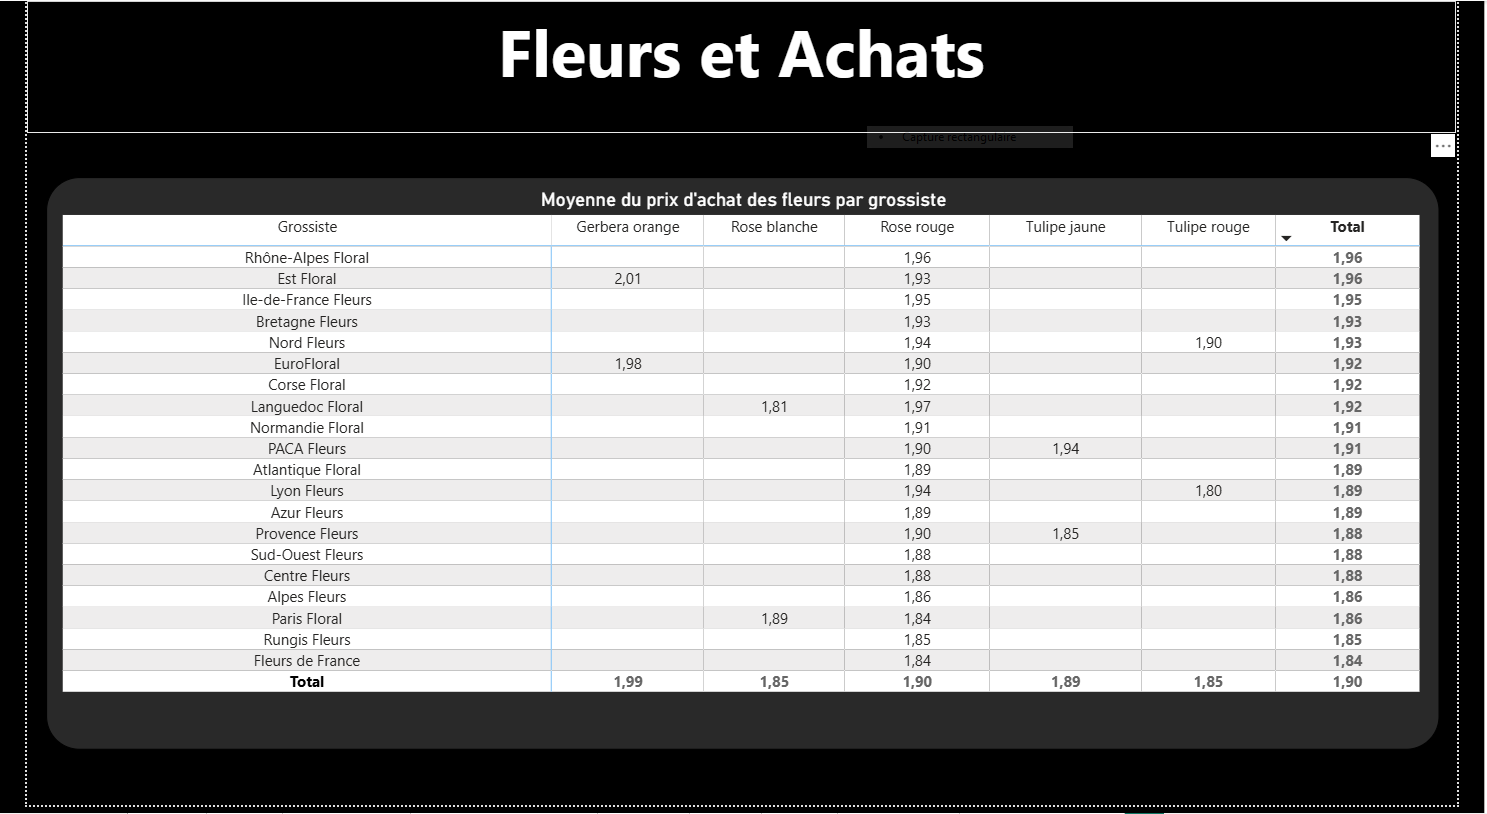

The page's visual inventory and layout, read from the dashboard file:
{"tool":"powerbi","page":{"name":"Fleur et Achats","canvas":[1280,720],"ordinal":7},"visuals":[{"type":"pivotTable","title":"Moyenne du prix d''achat des fleurs par grossiste","fields":{"Columns":["SAE_ACHATFLEUR.NOMFLEUR"],"Values":["Avg(SAE_ACHATFLEUR.PRIXACHATUNITAIRE)"],"Rows":["SAE_GROSSISTE.NOMGROSSISTE"]},"box":[16.7,157.5,1247.7,513.3],"z":0},{"type":"textbox","box":[0,0,1279.5,117.9],"z":1000}]}

Visuals, with their boxes on the page's 1280x720 design canvas (x1, y1, x2, y2). These are canvas units, not pixel positions in the 1487x814 screenshot, which may show the page scaled, cropped or inside an application window:
"Moyenne du prix d''achat des fleurs par grossiste" pivotTable: [17, 158, 1264, 671]
textbox: [0, 0, 1280, 118]
